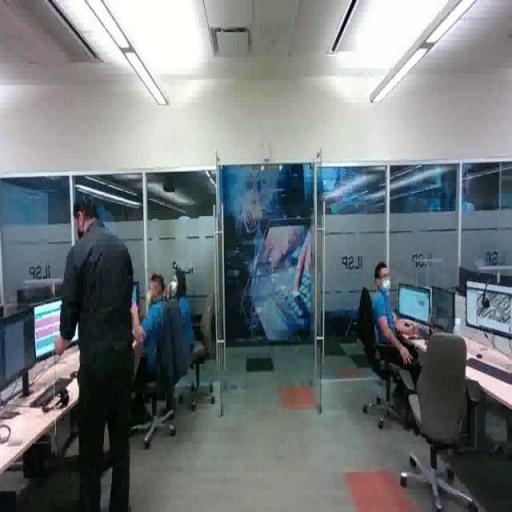person: (55, 196, 138, 512), (367, 258, 436, 427), (126, 270, 175, 431), (166, 270, 193, 385)
